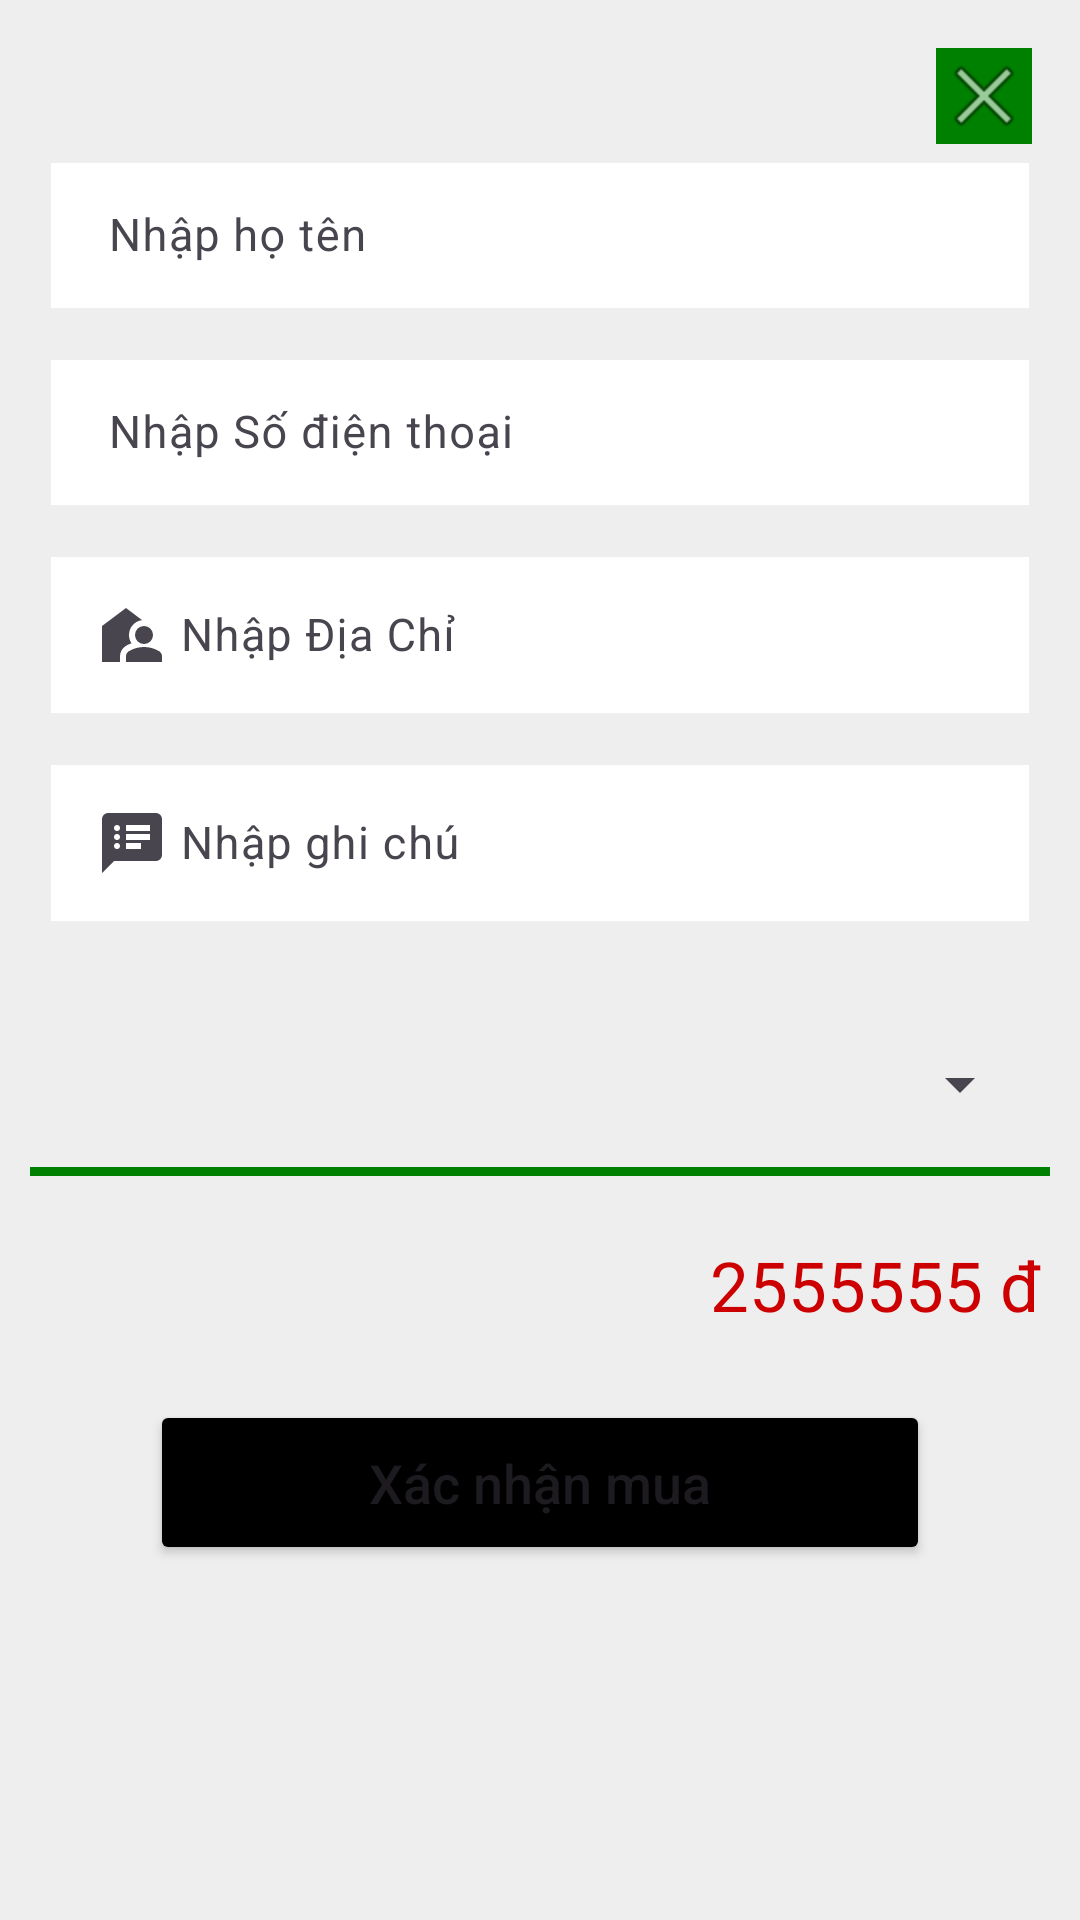

Locate icon controls on the screen. Image size 1080x1920, boxes as box=[x1, y1, x2, y2].
close clear cancel: box=[936, 48, 1032, 144]
